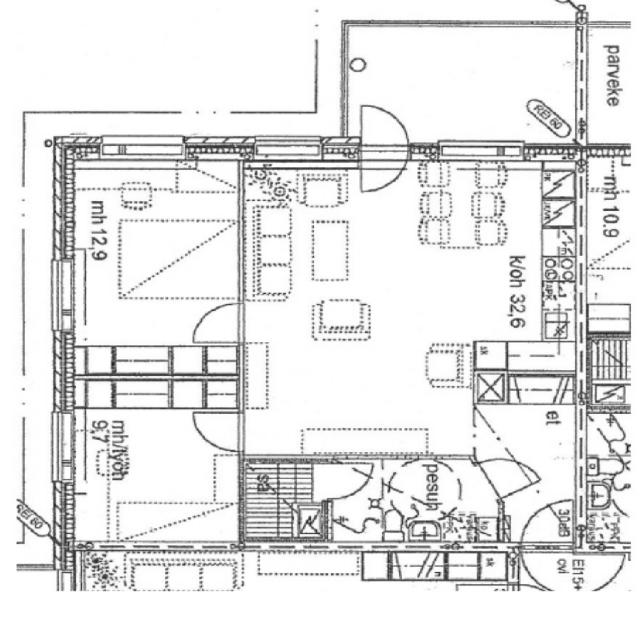door: (472, 444, 540, 500), (359, 137, 411, 205), (359, 93, 411, 160), (523, 497, 573, 550), (523, 540, 573, 592), (190, 412, 244, 452), (192, 304, 244, 342), (320, 465, 370, 500)
